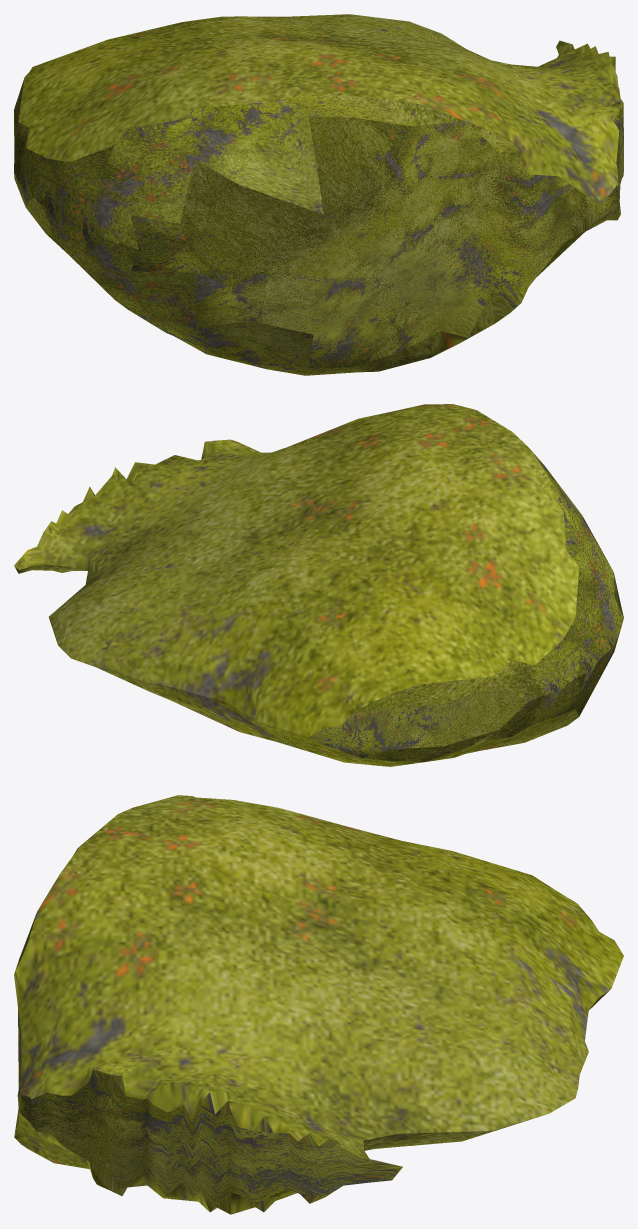
The model's file is SM_MossClump_03.fbx.
3 renders of one model, top to bottom at view 1: azimuth 30°, elevation 25°; view 2: azimuth 150°, elevation 25°; view 3: azimuth 270°, elevation 25°, orthographic. The views are drawn at different scales.
Parts seen in each view (by area): view 1: SM_MossClump_03; view 2: SM_MossClump_03; view 3: SM_MossClump_03.
Part boxes in pixels (left/top/right/bottom): SM_MossClump_03: left=14, top=14, right=623, bottom=375; SM_MossClump_03: left=14, top=404, right=623, bottom=766; SM_MossClump_03: left=14, top=795, right=623, bottom=1214.
Bounding box in the file's own units: 18.35 × 16.11 × 9.
